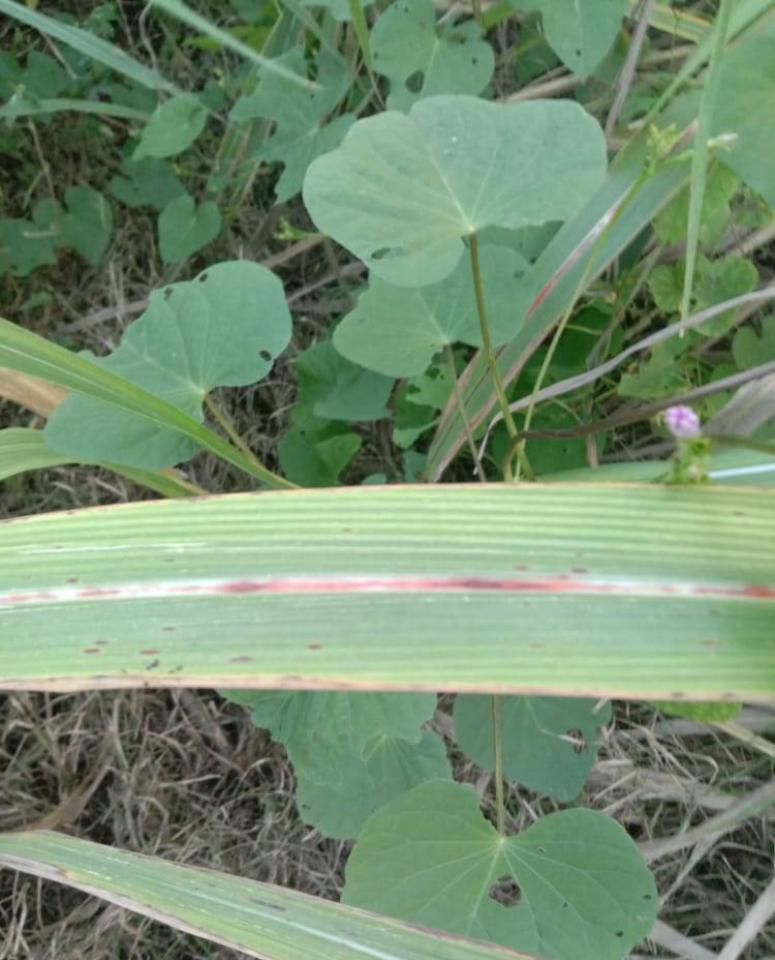RedRot: (1, 577, 774, 607), (529, 221, 606, 313)
Rust: (559, 567, 588, 580), (228, 655, 256, 663), (137, 647, 162, 655), (145, 659, 160, 672), (700, 637, 717, 647), (733, 509, 749, 519), (529, 641, 546, 649), (81, 648, 100, 655), (93, 639, 109, 646), (514, 564, 530, 571), (63, 578, 80, 584), (160, 626, 176, 632), (308, 644, 324, 650), (670, 692, 685, 697), (724, 692, 734, 698), (711, 609, 721, 614)
